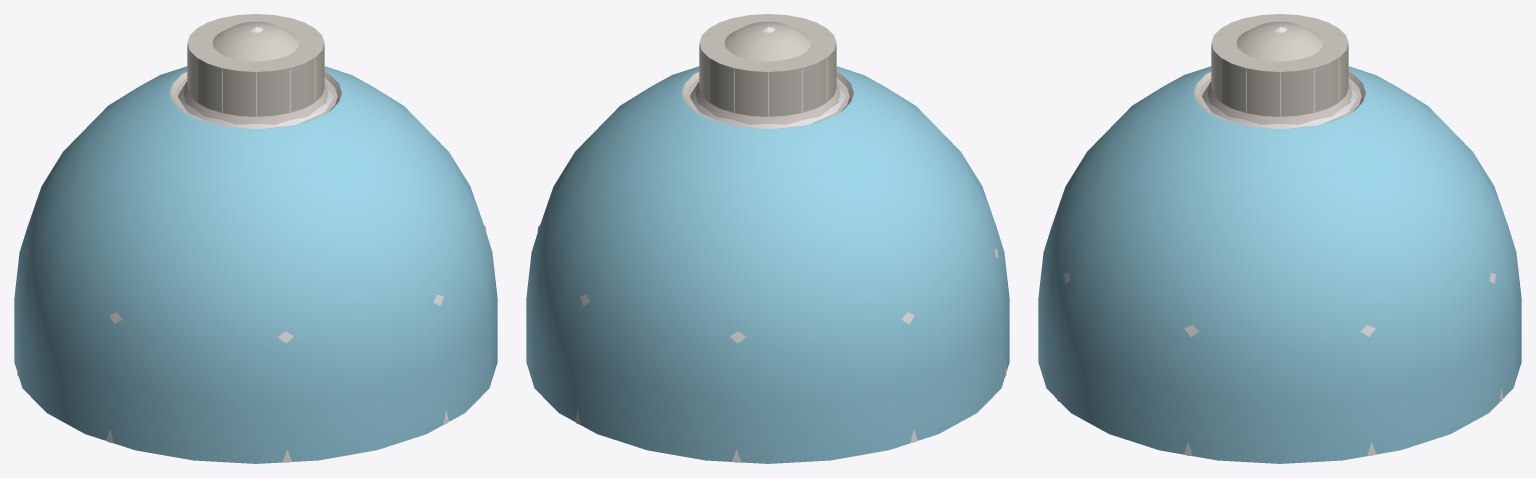
Rendered from HubMuseumIn_Dome01.dae.
The picture shows the model from 3 angles, left to right: view 1: azimuth 30°, elevation 25°; view 2: azimuth 150°, elevation 25°; view 3: azimuth 270°, elevation 25°; orthographic projection.
Parts seen in each view (by area): view 1: HubMuseumIn_Dome01, Coll_Dome01; view 2: HubMuseumIn_Dome01, Coll_Dome01; view 3: HubMuseumIn_Dome01, Coll_Dome01.
Boxes of the visible parts, x1=… form: HubMuseumIn_Dome01: x1=14, y1=14, x2=497, y2=463; Coll_Dome01: x1=17, y1=26, x2=486, y2=462; HubMuseumIn_Dome01: x1=526, y1=14, x2=1009, y2=463; Coll_Dome01: x1=537, y1=26, x2=1006, y2=462; HubMuseumIn_Dome01: x1=1038, y1=14, x2=1521, y2=463; Coll_Dome01: x1=1056, y1=26, x2=1503, y2=455.
Size of the model in its own units: 2016 by 2016 by 1541.
